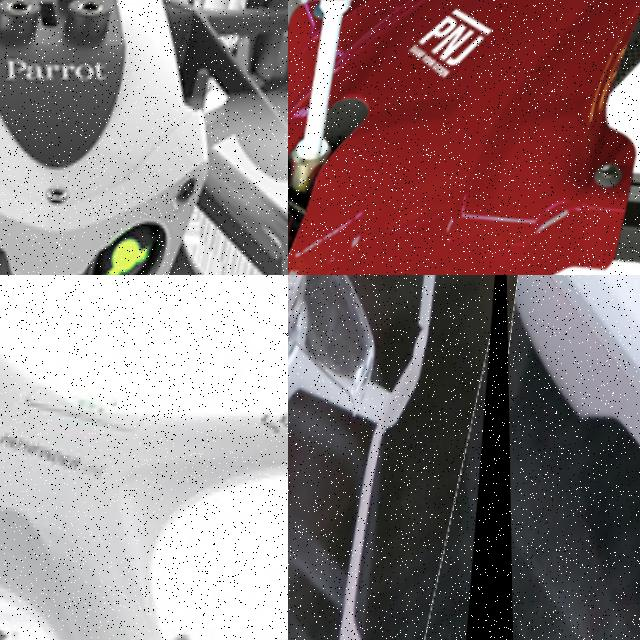drone: (0, 275, 288, 640), (288, 0, 640, 275), (288, 275, 515, 640), (0, 0, 288, 275)
